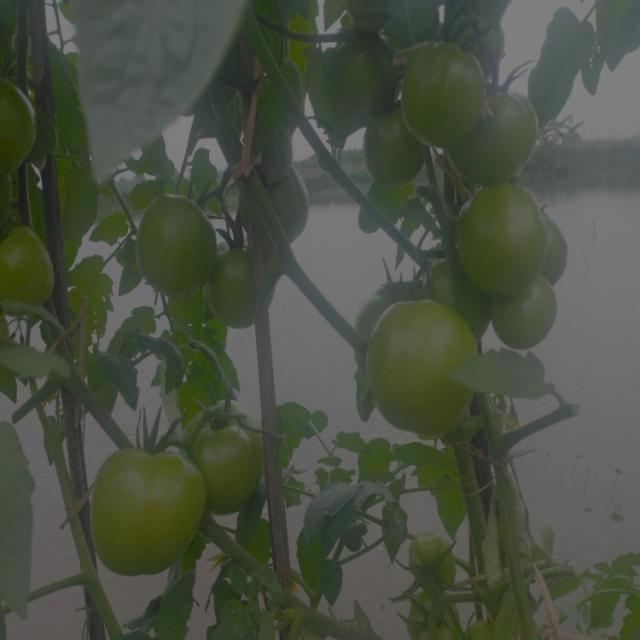tomato: (359, 293, 482, 440), (92, 419, 203, 581), (448, 179, 546, 285), (408, 39, 483, 148), (192, 402, 261, 505), (240, 155, 318, 246), (480, 81, 548, 181), (314, 33, 390, 116), (127, 195, 198, 283), (4, 217, 59, 323), (365, 109, 432, 188), (1, 75, 41, 186), (501, 281, 565, 346), (402, 528, 462, 596), (214, 242, 263, 321), (544, 208, 580, 277), (405, 605, 465, 640)
